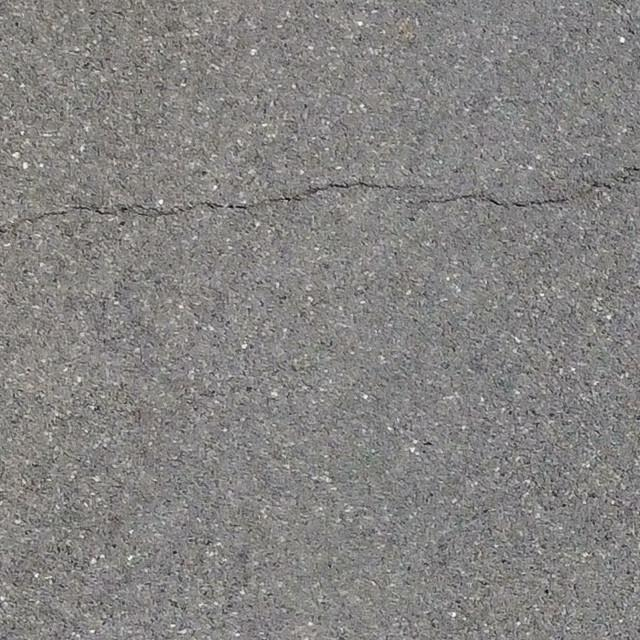TransverseCrack: (1, 165, 640, 232)
